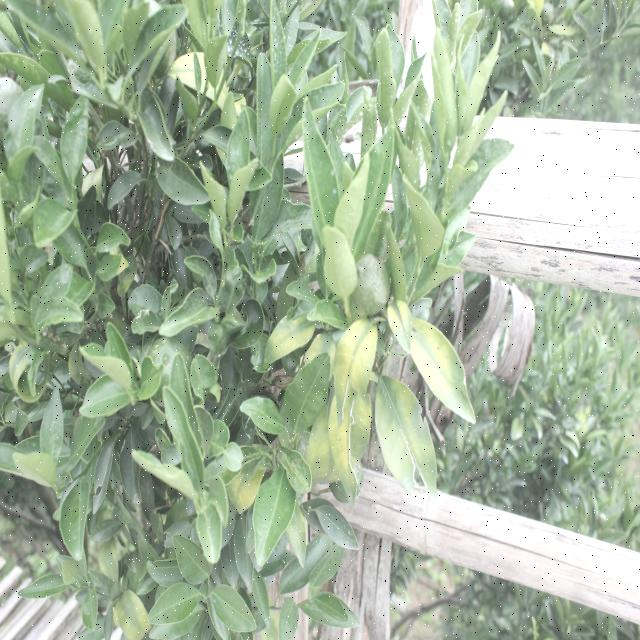greening: (410, 326, 474, 426), (333, 316, 377, 418), (327, 402, 369, 492), (227, 469, 263, 512)
